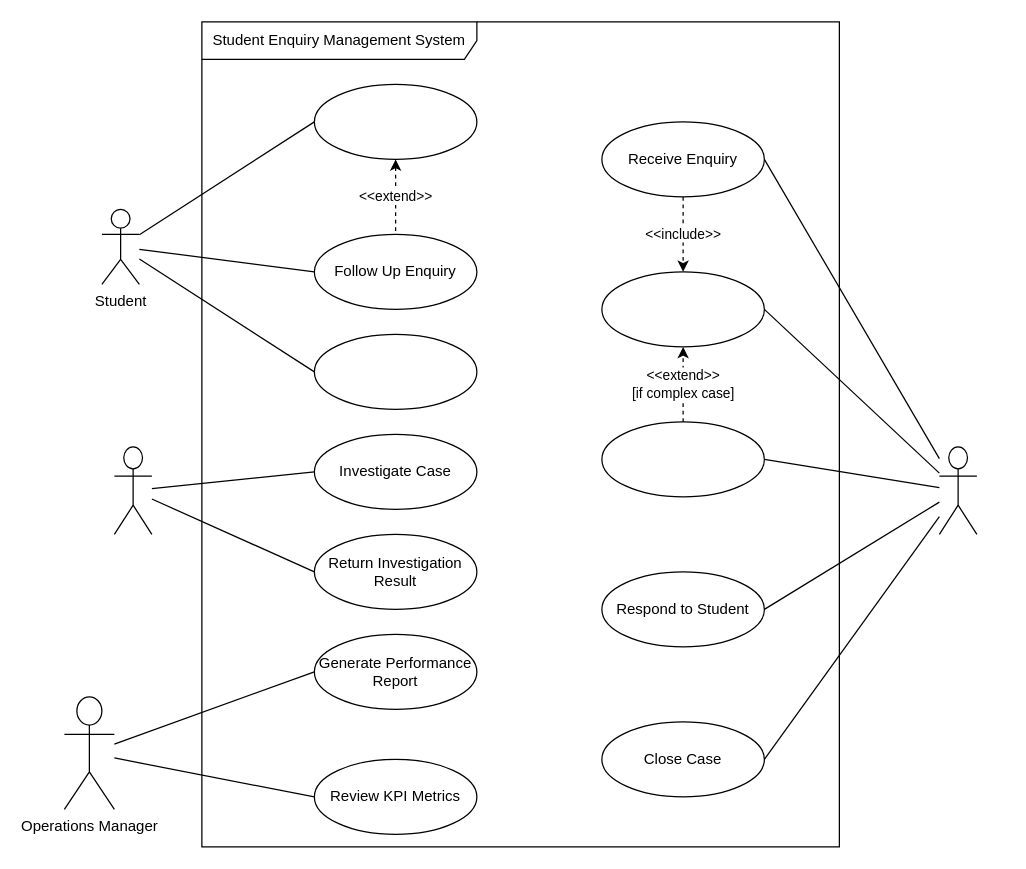
Image size: 1026x869. Some labels were removed from this diagram. Each missing label, with the box of its shape:
Administrative Officer: (938, 446, 977, 534)
Check Response: (313, 333, 477, 409)
Department (Finance...): (113, 446, 152, 534)
Forward to Department: (601, 421, 764, 497)
Manually Categorise: (601, 271, 764, 347)
Submit Enquiry: (313, 83, 477, 159)
